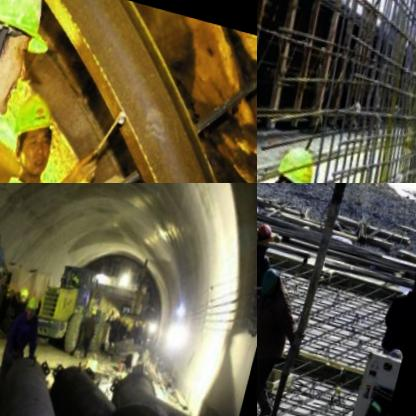helmet: (0, 0, 65, 134), (0, 79, 69, 181), (263, 134, 323, 183), (258, 260, 283, 294), (24, 291, 44, 322), (257, 217, 277, 245)
